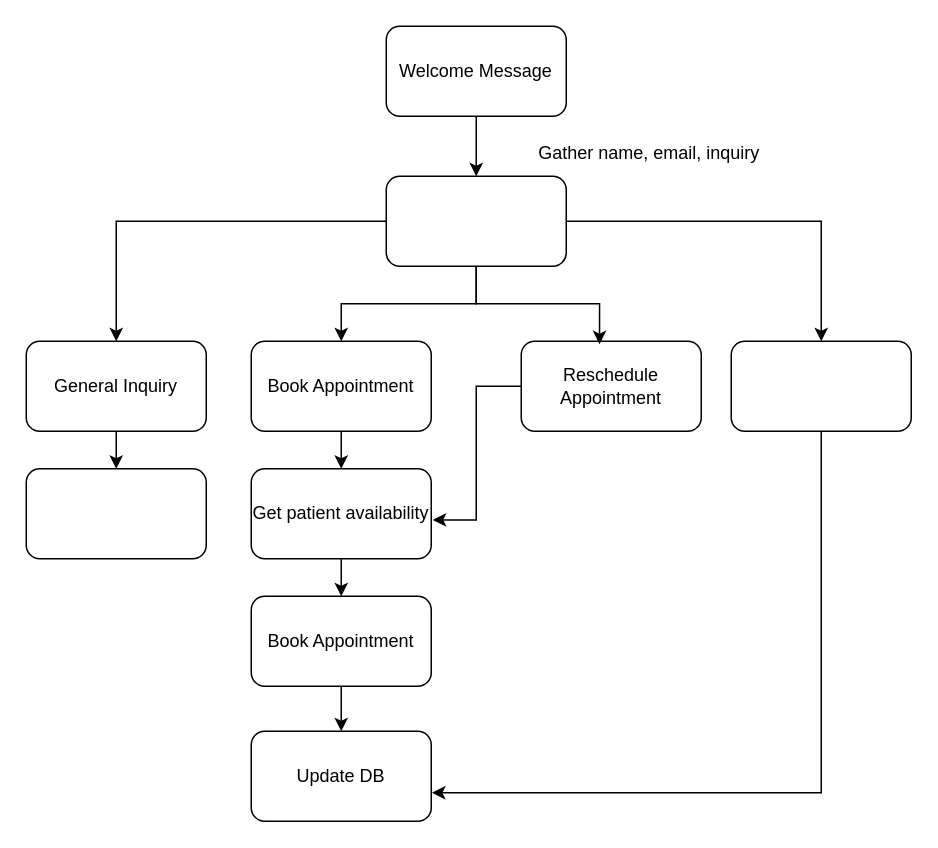
Image size: 938x848. Some labels were removed from this diagram. Here are the shapes that lost their labels. From the top down, the box of each, then its label:
(385, 175, 566, 266): Gather User Information
(730, 340, 911, 431): Cancel Appointment
(25, 467, 206, 559): Handover to another chatbot
